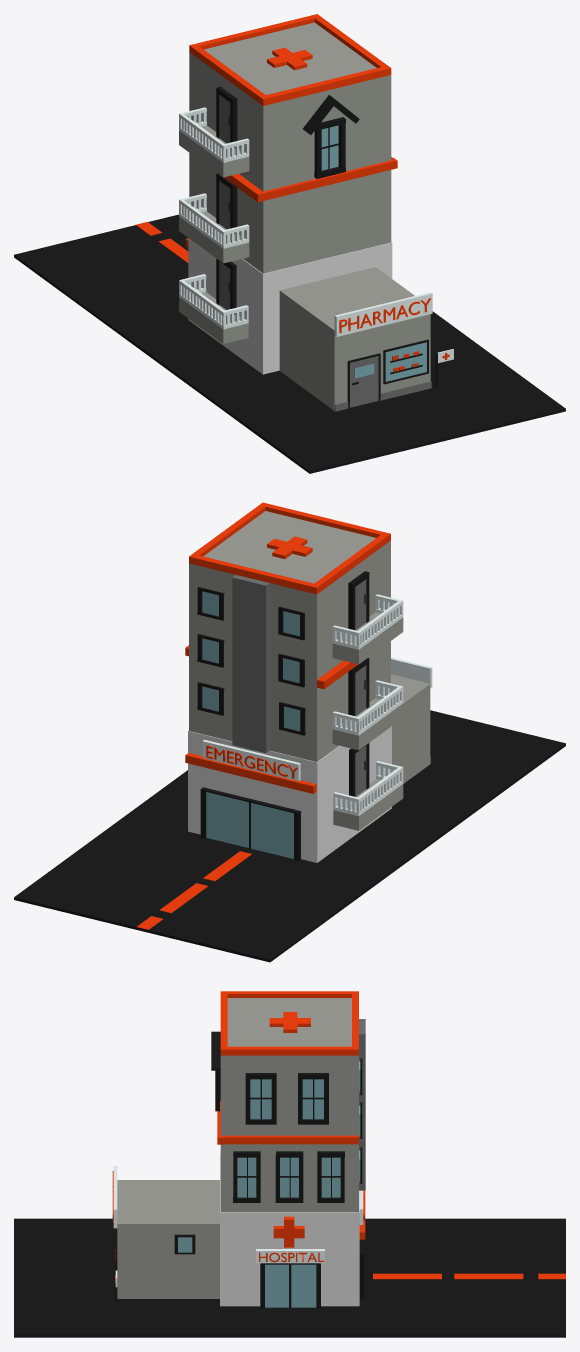
The model's file is hospital.glb.
3 renders of one model, top to bottom at view 1: azimuth 30°, elevation 25°; view 2: azimuth 150°, elevation 25°; view 3: azimuth 270°, elevation 25°, orthographic. The views are drawn at different scales.
Parts seen in each view (by area): view 1: Cube.004; view 2: Cube.004; view 3: Cube.004.
Boxes of the visible parts, <box> form: Cube.004: <box>14,14,565,473</box>; Cube.004: <box>14,502,565,962</box>; Cube.004: <box>14,991,565,1337</box>.
Bounding box in the file's own units: 40 × 41.43 × 79.98.
